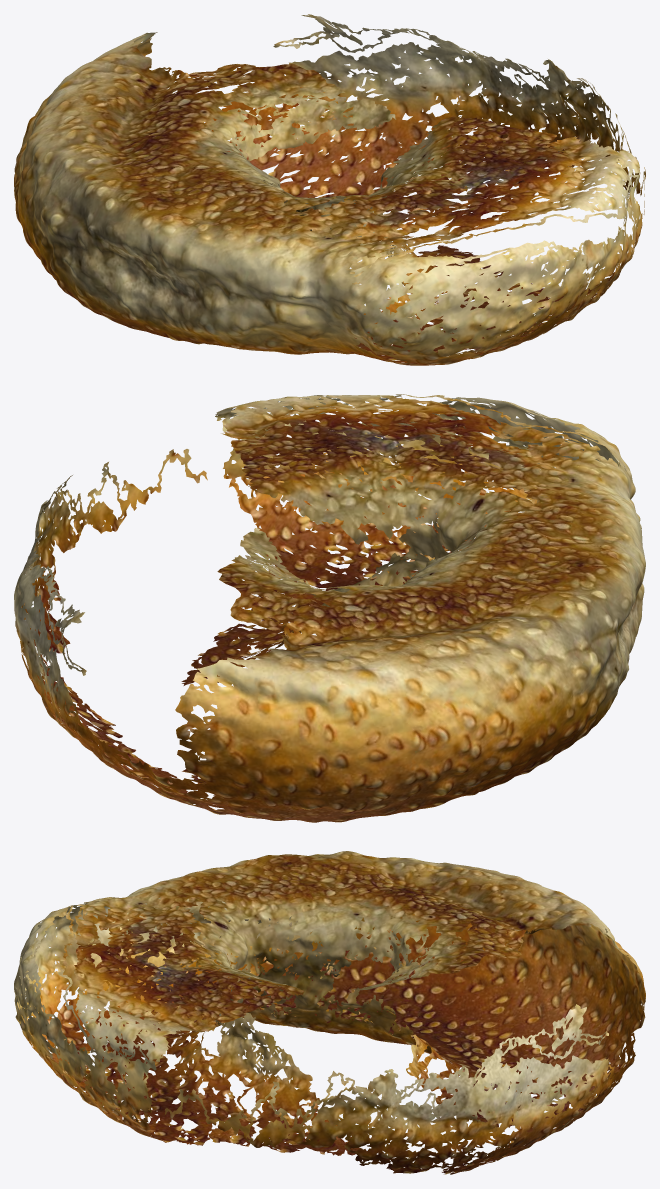
The model's file is bagel_0.obj.
The picture shows the model from 3 angles, top to bottom: view 1: azimuth 30°, elevation 25°; view 2: azimuth 150°, elevation 25°; view 3: azimuth 270°, elevation 25°; orthographic projection. The views are drawn at different scales.
Bounding box in the file's own units: 3.18 × 1.02 × 3.59.
Materials: 1 (1 with a texture image).
